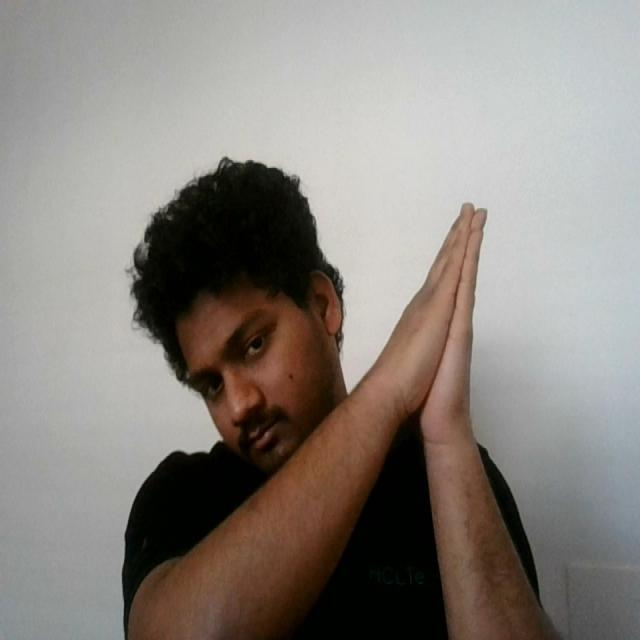Thanks: (364, 190, 492, 464)
